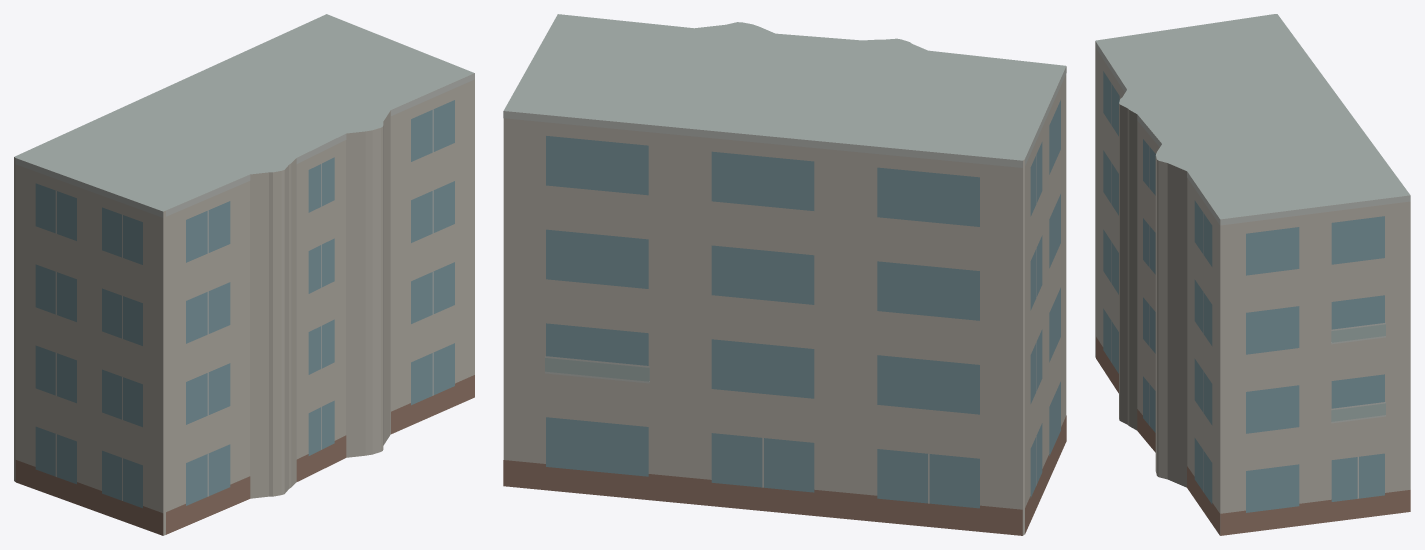
File: survey-upis-32941999.glb
3 renders of one model, left to right at view 1: azimuth 30°, elevation 25°; view 2: azimuth 150°, elevation 25°; view 3: azimuth 270°, elevation 25°, orthographic. The views are drawn at different scales.
Visible parts, largest first — view 1: survey-upis-32941999.tmp; view 2: survey-upis-32941999.tmp; view 3: survey-upis-32941999.tmp.
Part boxes in pixels (<box>): survey-upis-32941999.tmp: <box>14,14,474,535</box>; survey-upis-32941999.tmp: <box>503,14,1066,535</box>; survey-upis-32941999.tmp: <box>1095,14,1410,535</box>.
Size of the model in its own units: 17.55 by 12.6 by 11.39.
